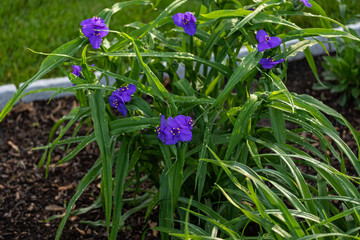snakeweed: (127, 89, 259, 196)
